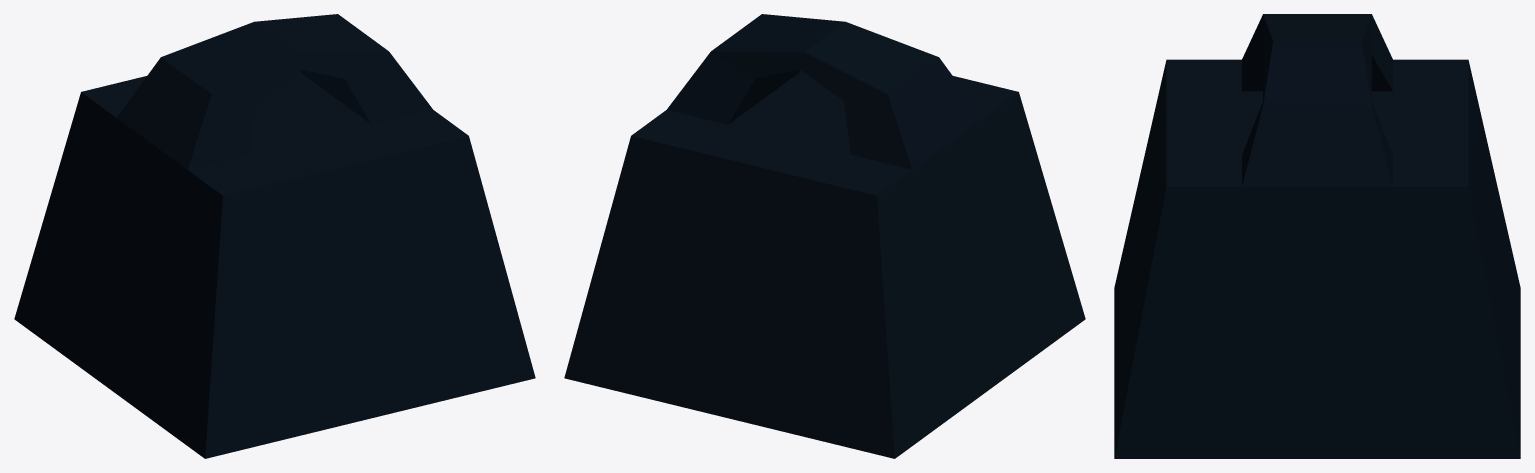
Rendered from heavy_metal.glb.
The picture shows the model from 3 angles, left to right: view 1: azimuth 30°, elevation 25°; view 2: azimuth 150°, elevation 25°; view 3: azimuth 270°, elevation 25°; orthographic projection. The views are drawn at different scales.
Parts seen in each view (by area): view 1: Cube; view 2: Cube; view 3: Cube.
Boxes of the visible parts, x1,y1,x2,y2 form: Cube: (14,14,535,458); Cube: (564,14,1085,458); Cube: (1114,14,1520,458).
Bounding box in the file's own units: 2 × 1.8 × 2.
Materials: 1 (1 with a texture image).
